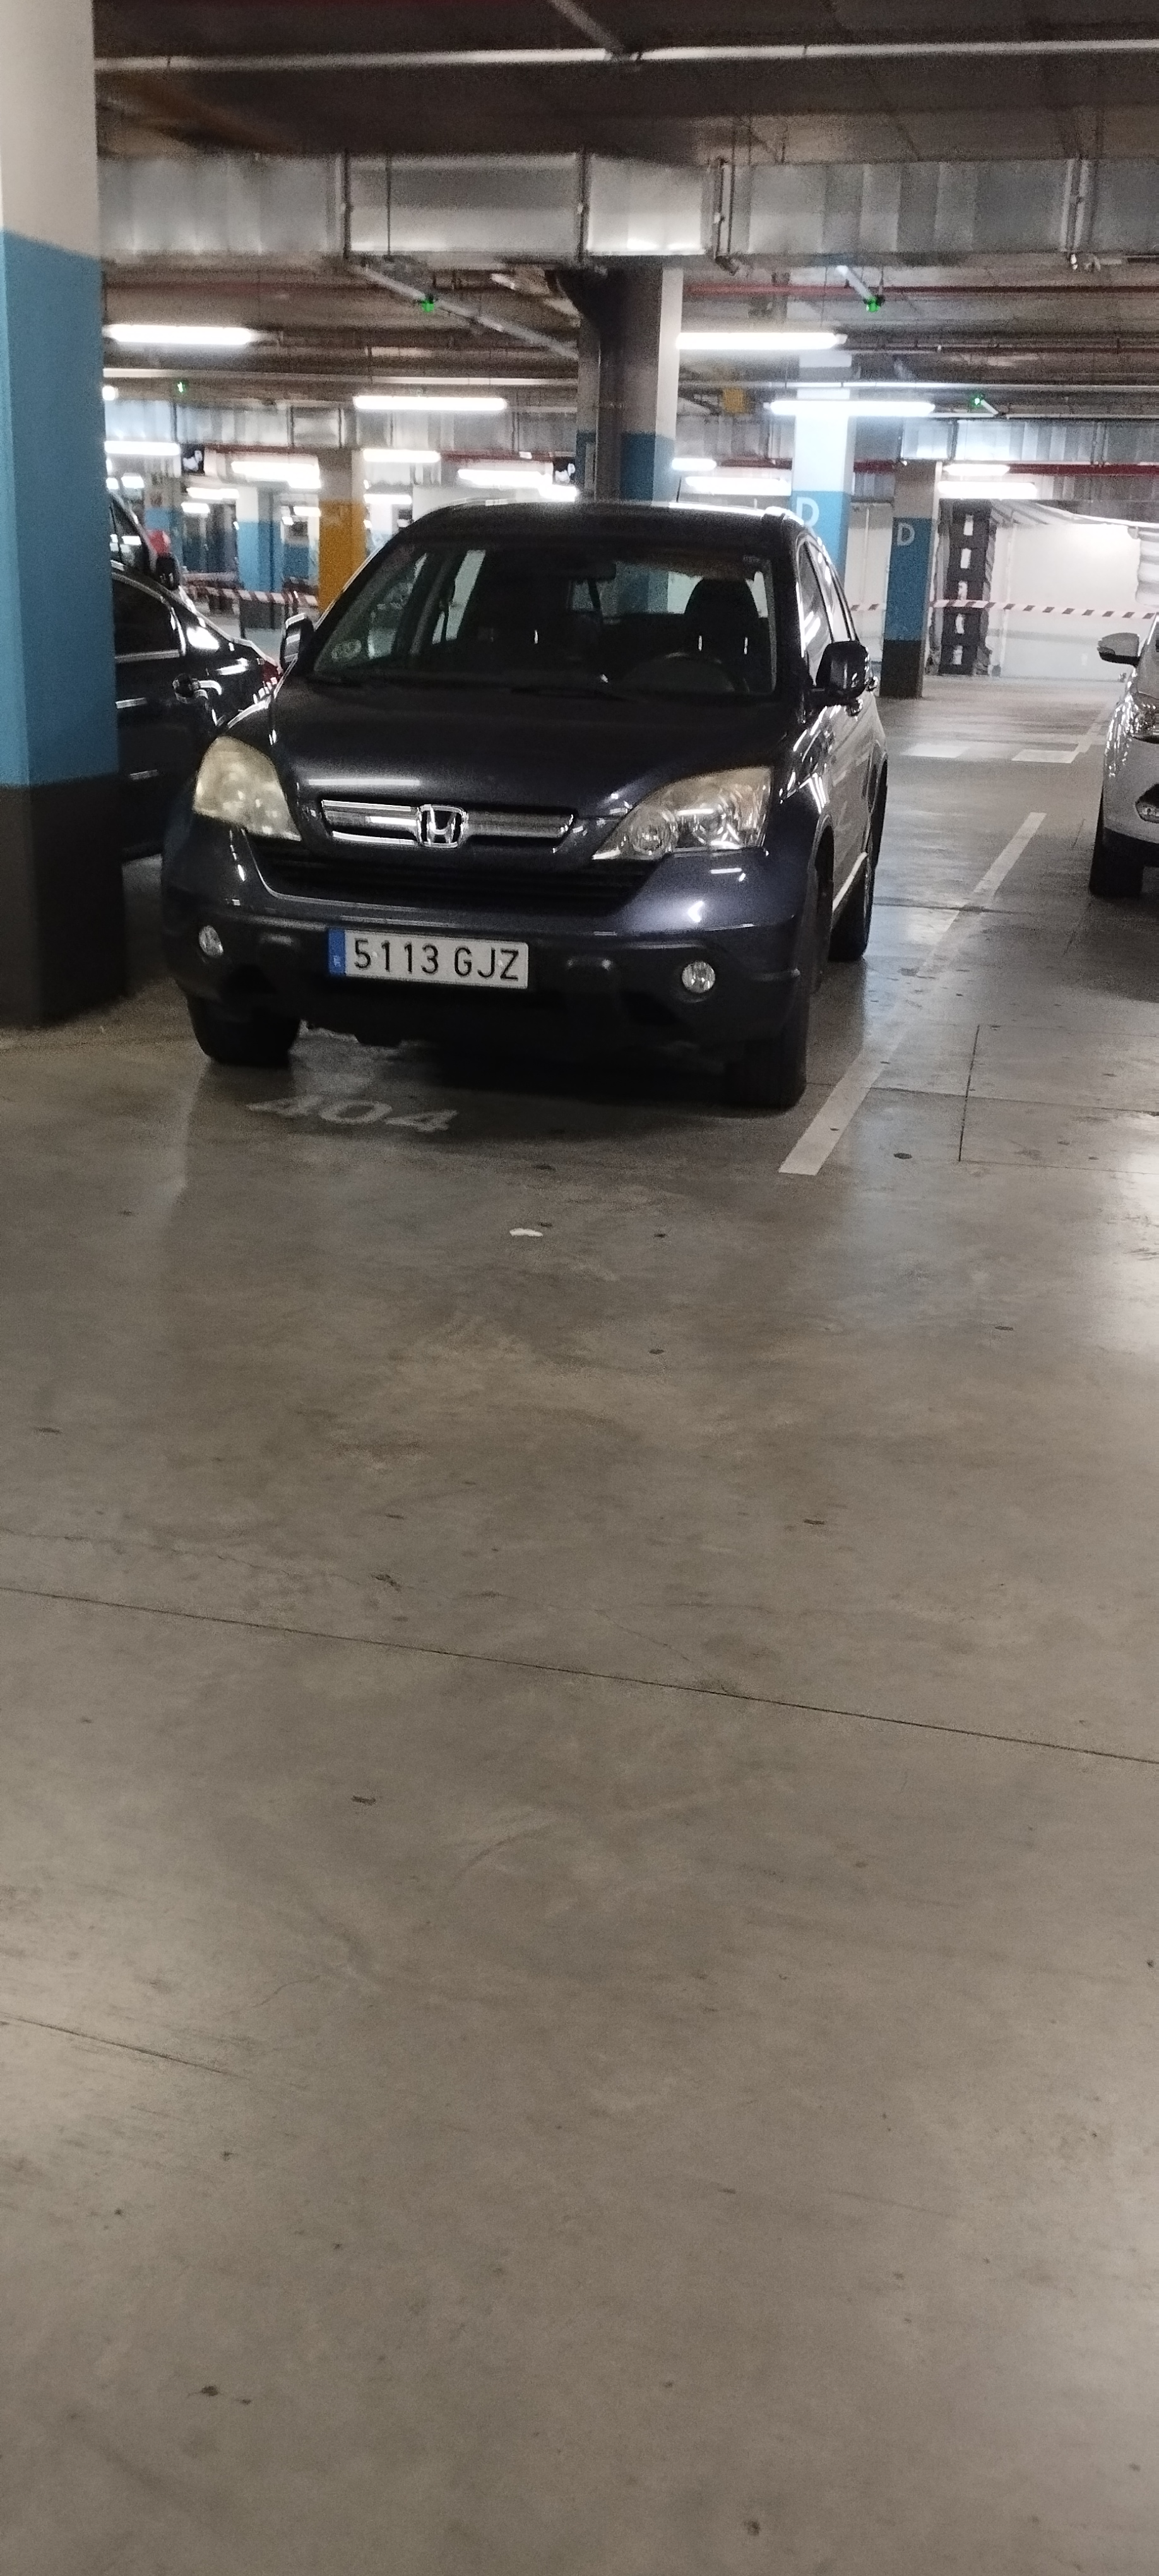Car: (206, 504, 886, 1086)
Plate: (326, 929, 529, 981)
